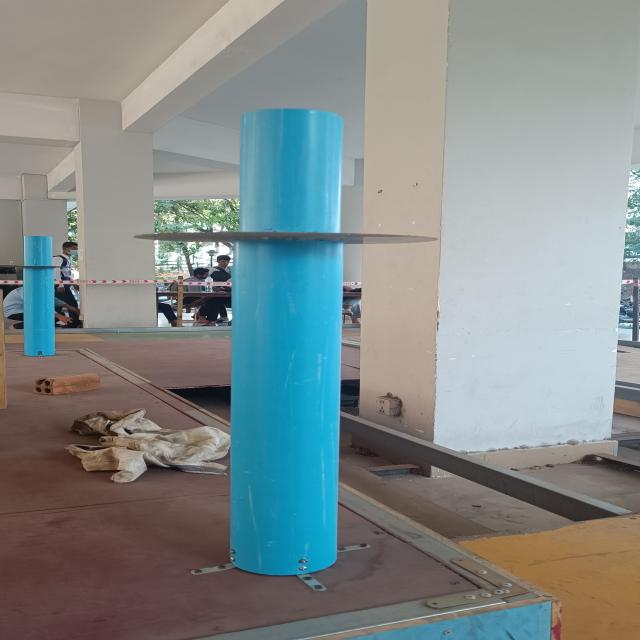pole: (103, 128, 460, 348), (8, 231, 76, 305)
